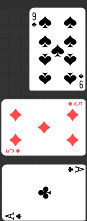9C: (77, 73, 84, 90), (30, 12, 37, 29)
AC: (4, 212, 23, 221)
